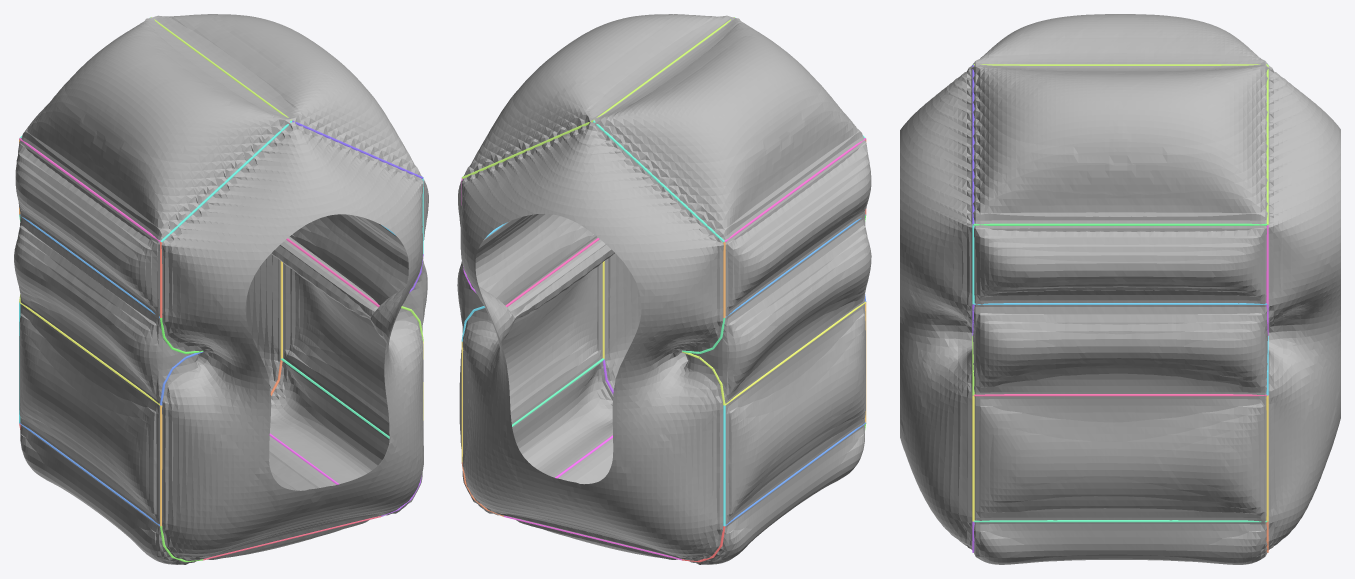
The model's file is onshape_house.gltf.
3 renders of one model, left to right at view 1: azimuth 30°, elevation 25°; view 2: azimuth 150°, elevation 25°; view 3: azimuth 270°, elevation 25°, orthographic. The views are drawn at different scales.
Size of the model in its own units: 0.568 by 0.8241 by 0.6837.
